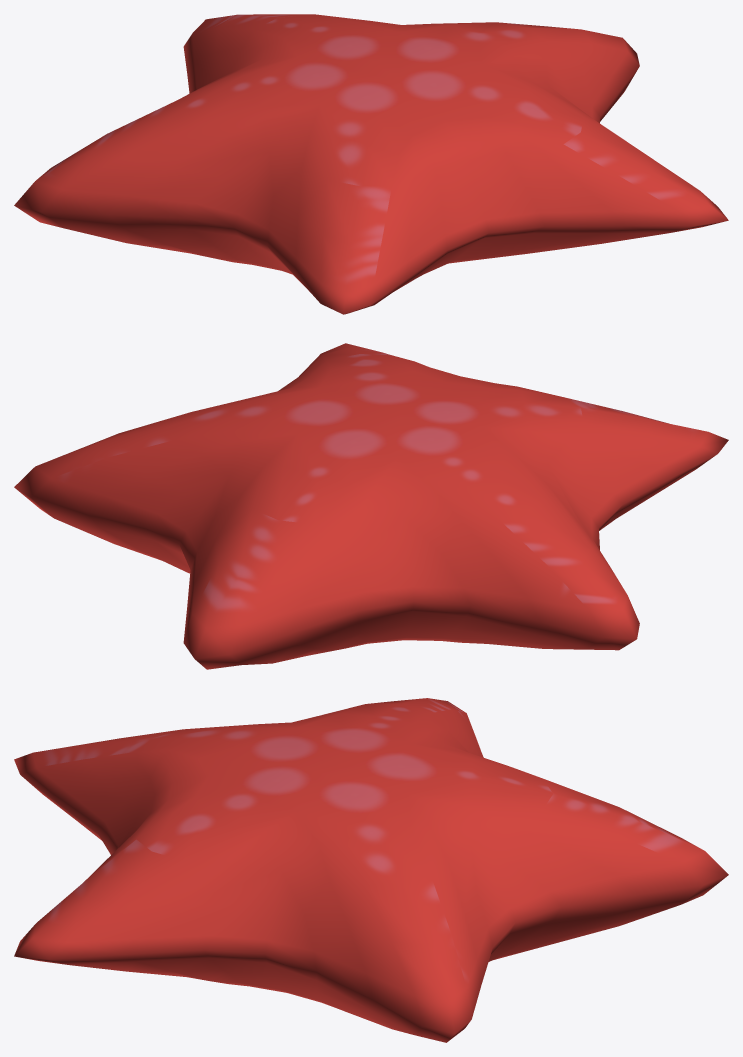
File: starfish.glb
3 views of the same model, one above another, from view 1: azimuth 30°, elevation 25°; view 2: azimuth 150°, elevation 25°; view 3: azimuth 270°, elevation 25° (orthographic). The views are drawn at different scales.
Parts seen in each view (by area): view 1: Cylinder; view 2: Cylinder; view 3: Cylinder.
Part boxes in pixels (bbox=[...]): Cylinder: bbox=[14, 14, 728, 314]; Cylinder: bbox=[14, 343, 728, 669]; Cylinder: bbox=[14, 698, 728, 1042].
Size of the model in its own units: 1.63 by 0.4082 by 1.54.
Materials: 1 (1 with a texture image).
